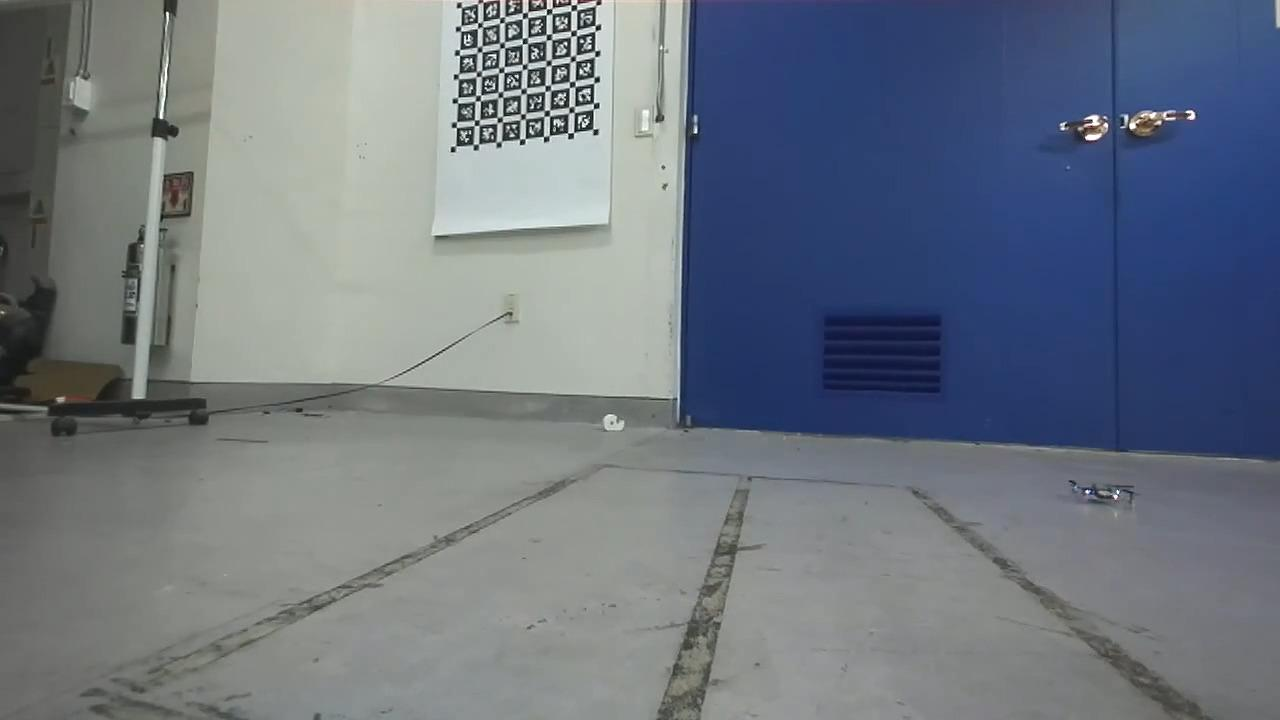crazyflie: (1064, 474, 1135, 508)
